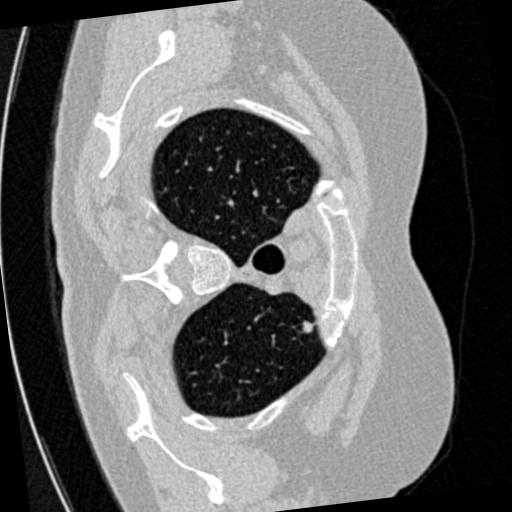nodule: (300, 316, 320, 336)
